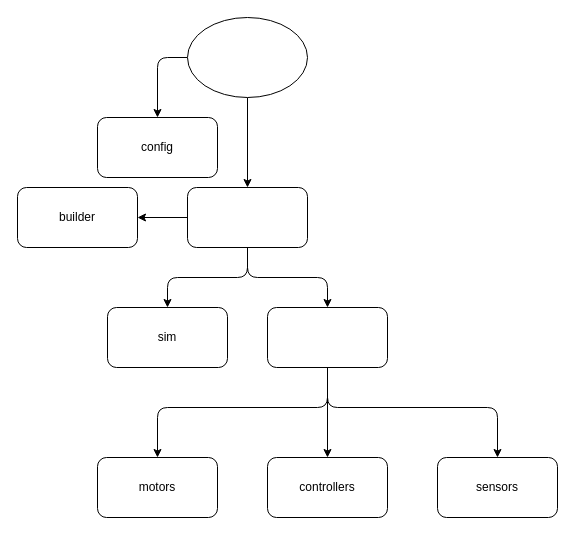
Image size: 575x535. Some labels were removed from this diagram. The centre of each missing label's shape, as x and y in pixels:
"Main" goes at (x=247, y=57).
"robot" goes at (x=327, y=337).
"runner" goes at (x=247, y=217).
